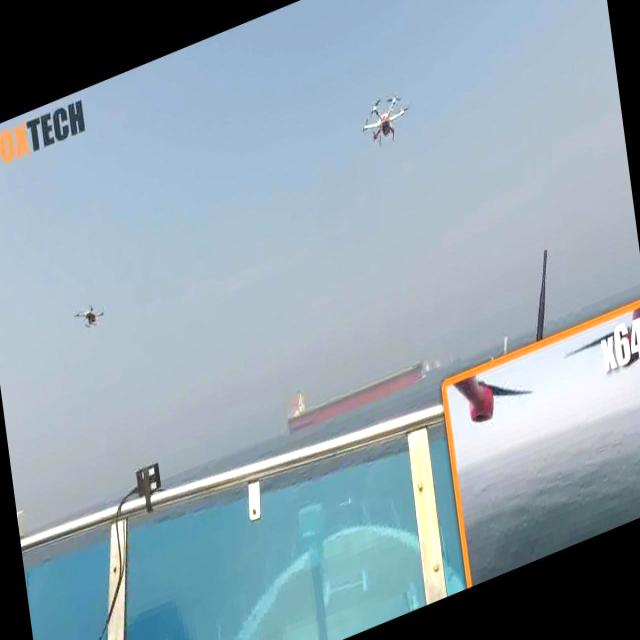drone: (358, 82, 414, 155), (73, 296, 105, 335)
